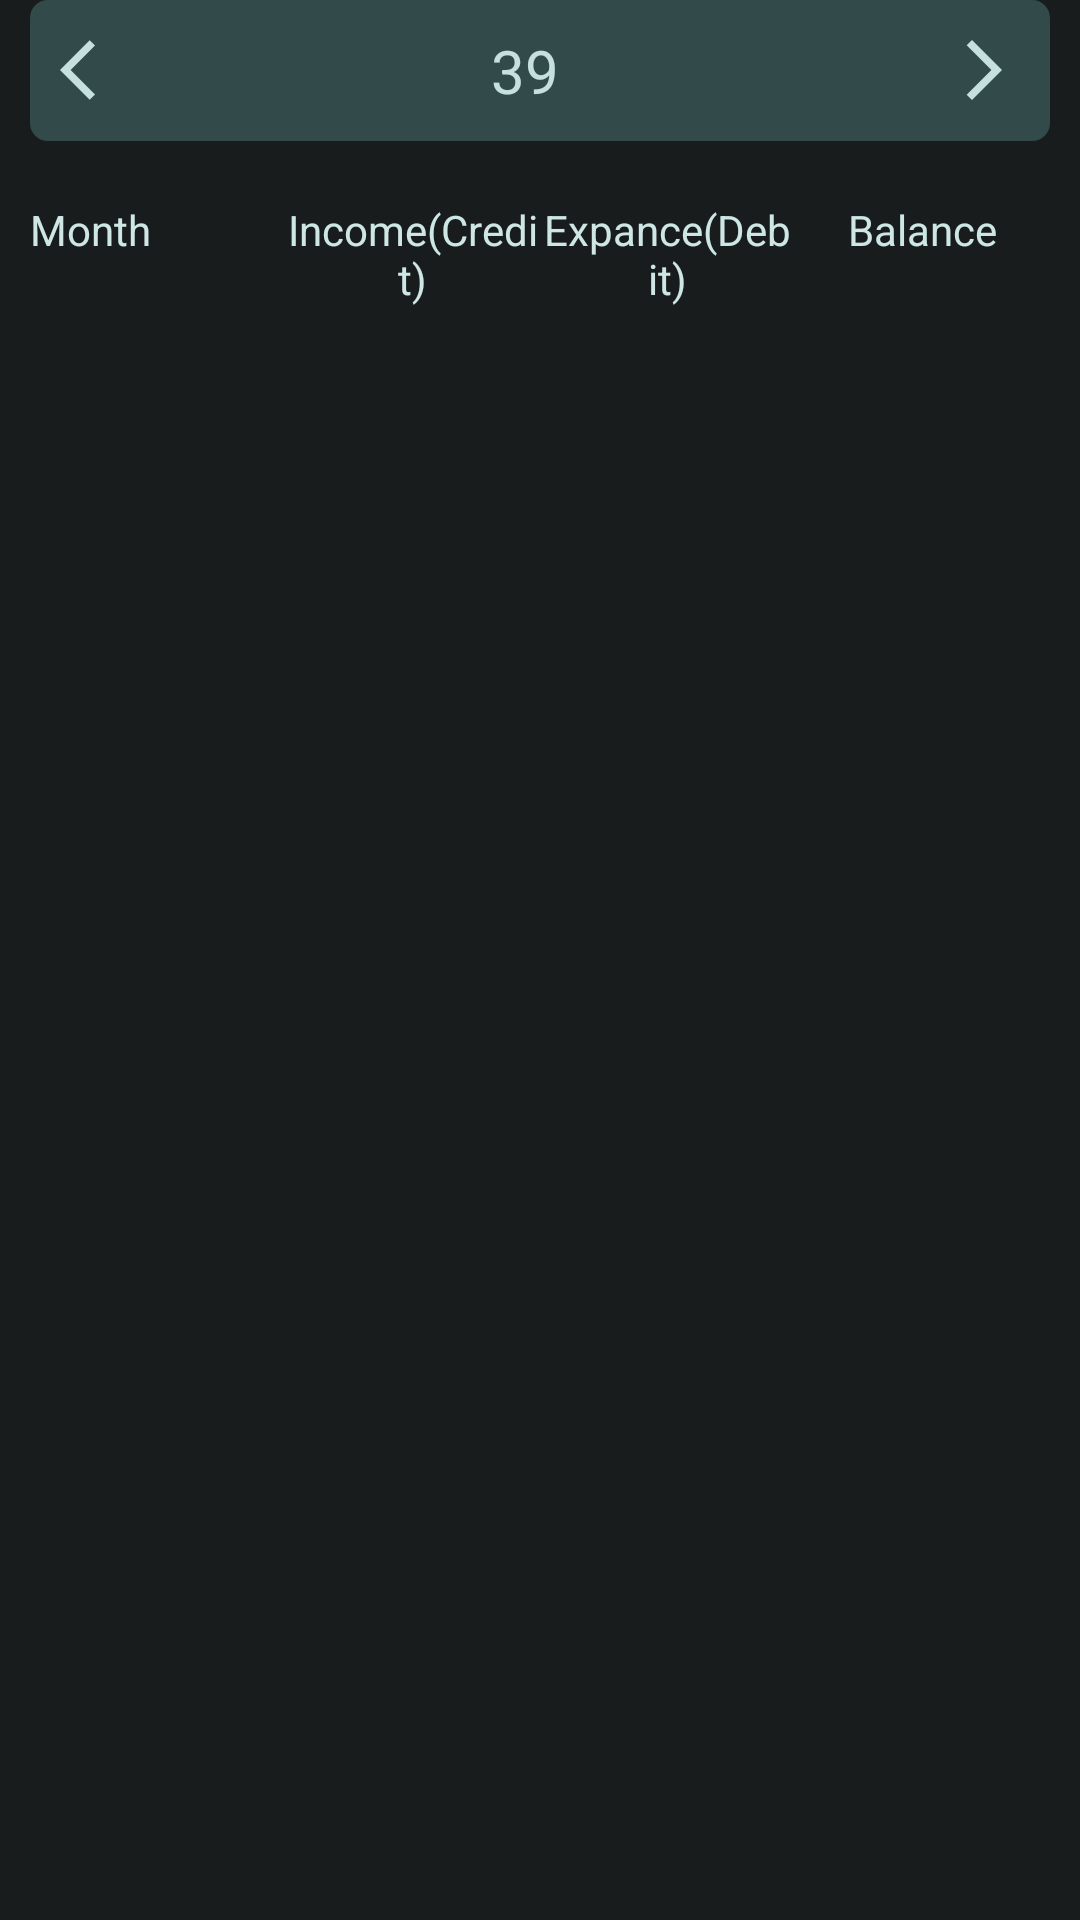

Named icons in this screenshot (1080px×1920px) and their bounding boxes, (x1, y1, x2, y2):
back: (60, 40, 95, 100)
forward: (967, 40, 1002, 100)
